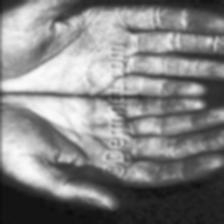Toxin: (70, 50, 104, 74)
